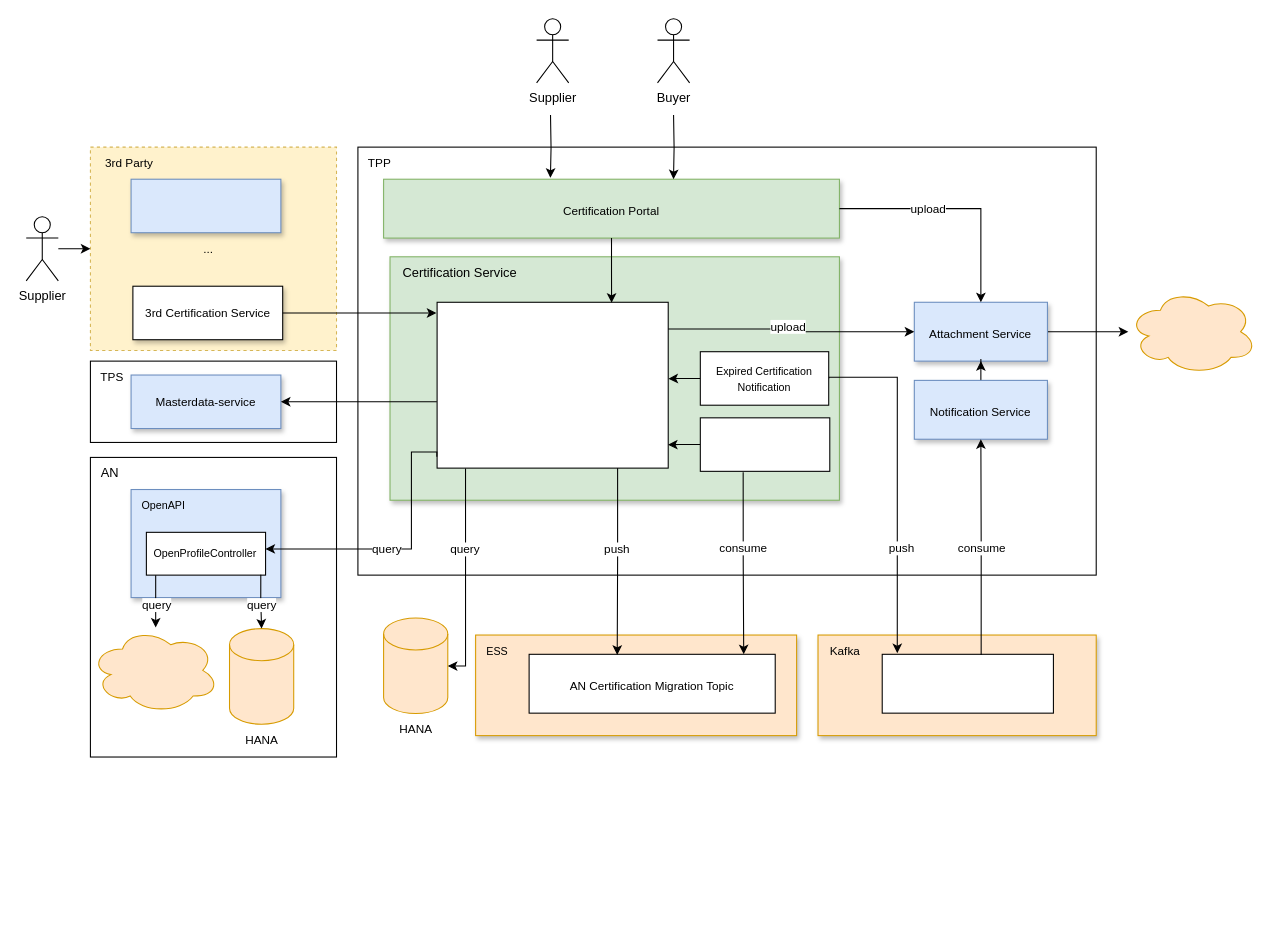
The diagram is 1275 pixels wide and 926 high, and some of its shapes have lost their labels. The shapes that lost their labels are listed below. From the top down, each one's centre as x and y in pixels, then its label:
the point at 206,207: SCT
the point at 1192,331: NFS
the point at 552,384: Certification Management
the point at 764,444: Certification Migration Management
the point at 154,669: NFS Storage
the point at 967,683: Notification Event topic
